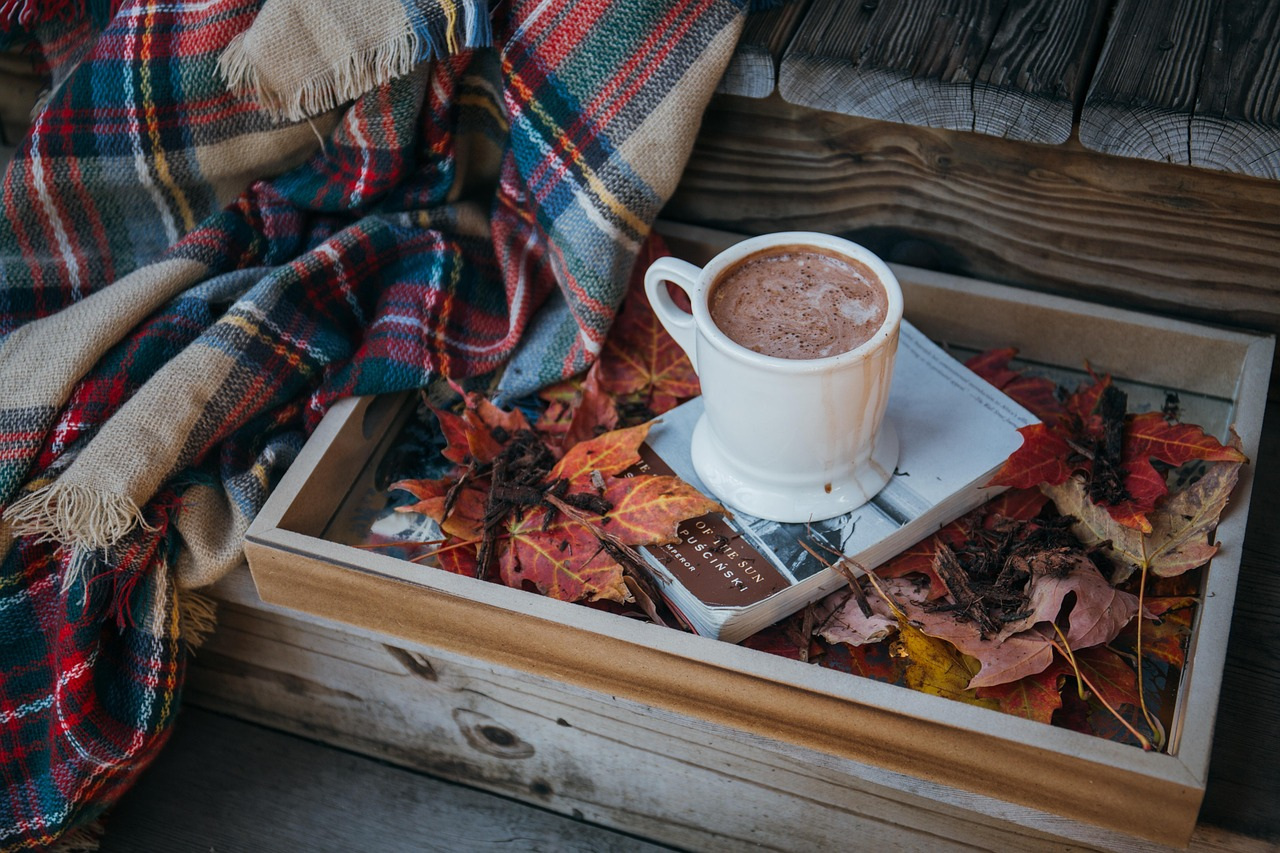mug: (638, 201, 915, 547)
